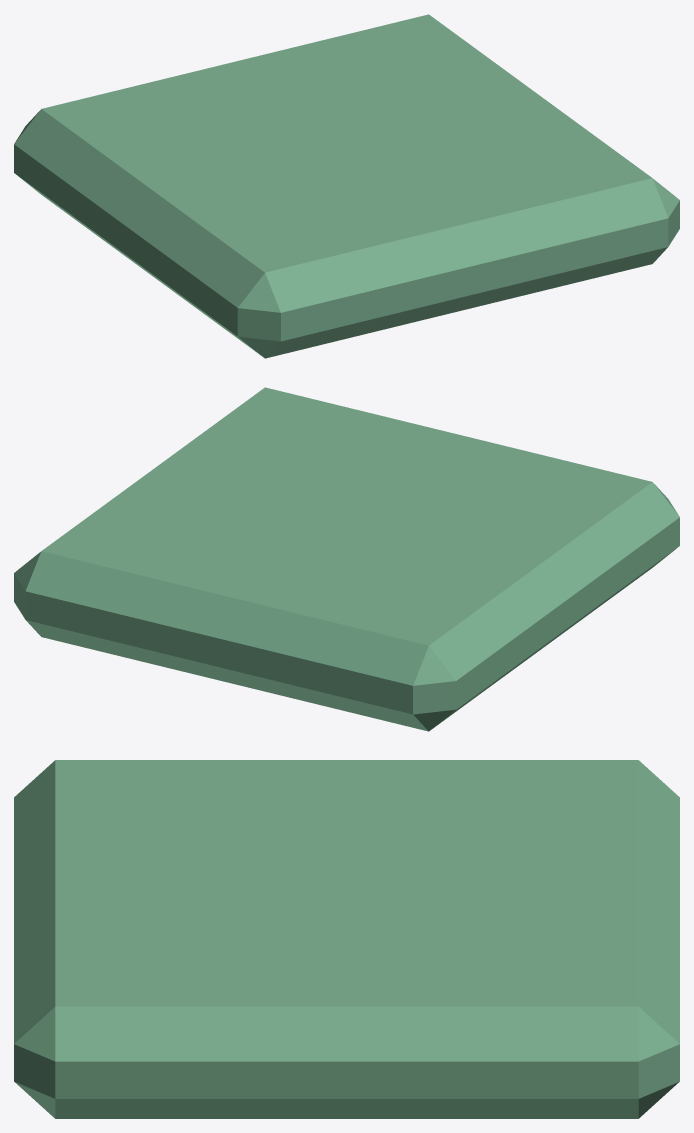
File: feudal-japan-castle-town-meditation-cushion-076819d2__26461.glb
The picture shows the model from 3 angles, top to bottom: view 1: azimuth 30°, elevation 25°; view 2: azimuth 150°, elevation 25°; view 3: azimuth 270°, elevation 25°; orthographic projection. The views are drawn at different scales.
Parts seen in each view (by area): view 1: meditation-cushion; view 2: meditation-cushion; view 3: meditation-cushion.
Boxes of the visible parts, x1,y1,x2,y2 form: meditation-cushion: (14,14,679,358); meditation-cushion: (14,387,679,731); meditation-cushion: (14,760,679,1118).
Bounding box in the file's own units: 0.7 × 0.13 × 0.7.
